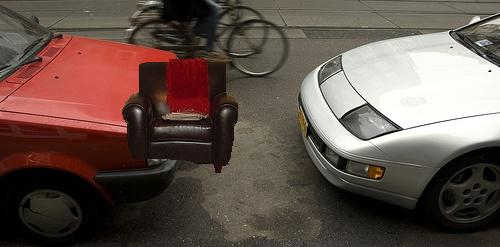tampered: (123, 59, 238, 173)
